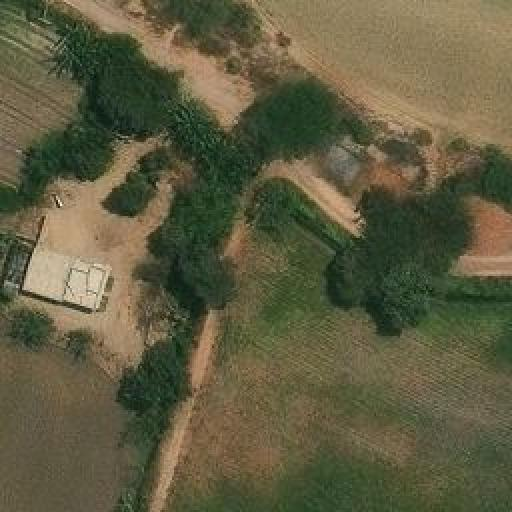manzanas: (0, 229, 123, 323)
